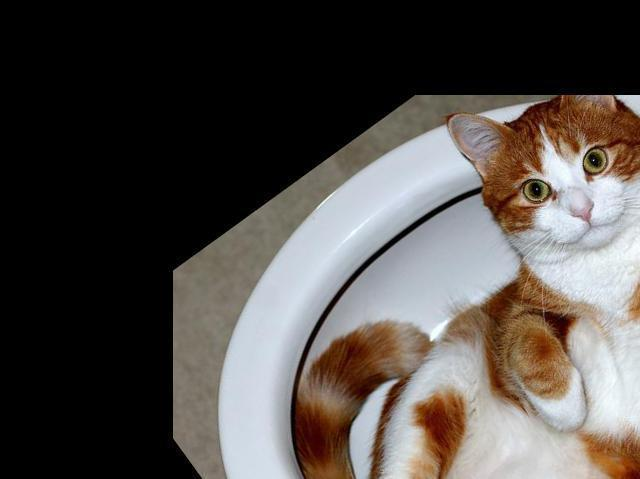Otro Obstaculo: (186, 0, 640, 479)
Sanitario: (116, 0, 640, 479)
